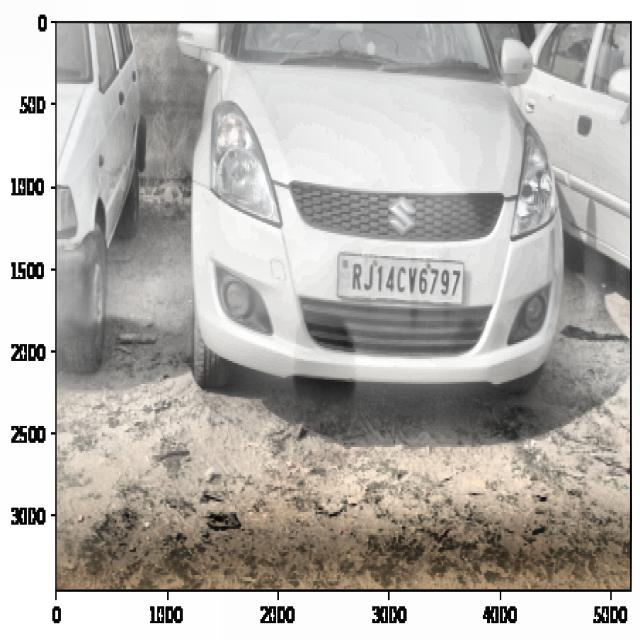license_plate: (344, 256, 466, 302)
